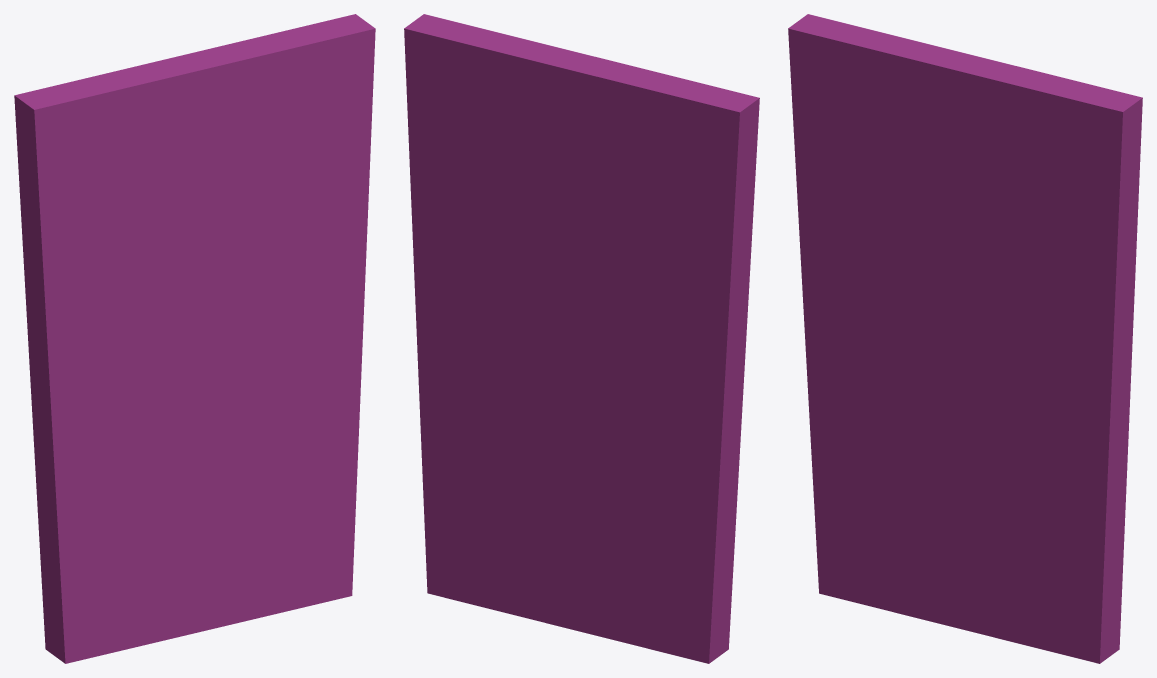
The model's file is SM_Bld_Outhouse_01_Door_01_Collision.fbx.
3 renders of one model, left to right at view 1: azimuth 30°, elevation 25°; view 2: azimuth 150°, elevation 25°; view 3: azimuth 330°, elevation 25°, orthographic.
Visible parts, largest first — view 1: SM_Bld_Outhouse_01_Door_01_Collision; view 2: SM_Bld_Outhouse_01_Door_01_Collision; view 3: SM_Bld_Outhouse_01_Door_01_Collision.
Part boxes in pixels (x1=…): SM_Bld_Outhouse_01_Door_01_Collision: x1=14, y1=14, x2=375, y2=663; SM_Bld_Outhouse_01_Door_01_Collision: x1=404, y1=14, x2=759, y2=663; SM_Bld_Outhouse_01_Door_01_Collision: x1=788, y1=14, x2=1142, y2=663.
Bounding box in the file's own units: 117 × 186 × 13.14.
